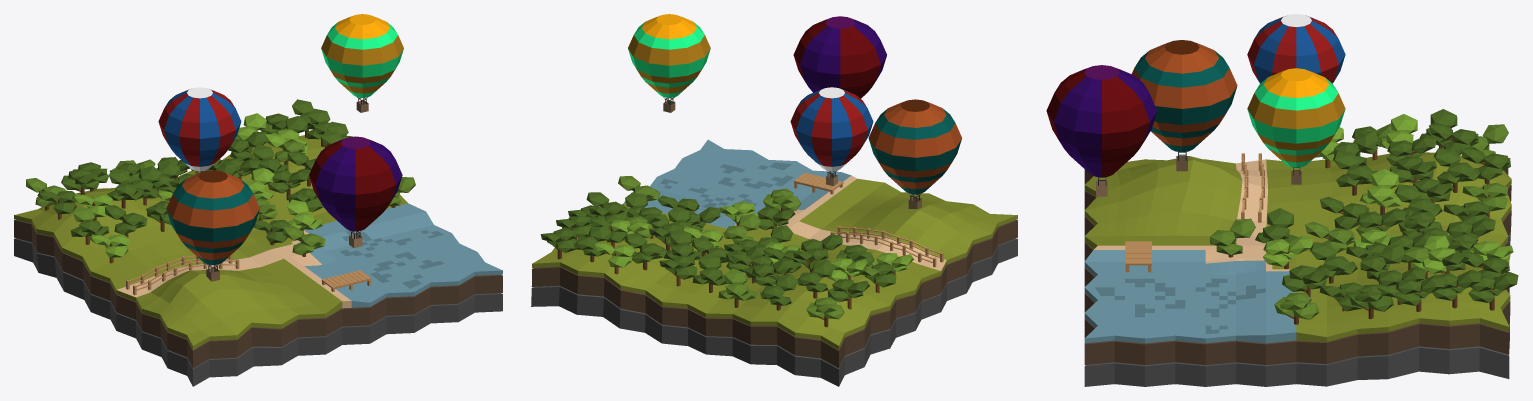
The model's file is hBaloon.glb.
The picture shows the model from 3 angles, left to right: view 1: azimuth 30°, elevation 25°; view 2: azimuth 150°, elevation 25°; view 3: azimuth 270°, elevation 25°; orthographic projection. The views are drawn at different scales.
Visible parts, largest first — view 1: Circle.003; view 2: Circle.003; view 3: Circle.003.
Part boxes in pixels (x1,y1,x2,y2): Circle.003: [14, 14, 502, 386]; Circle.003: [531, 14, 1017, 386]; Circle.003: [1046, 14, 1518, 386].
Bounding box in the file's own units: 20.12 × 14.73 × 22.28.
Materials: 1 (1 with a texture image).
